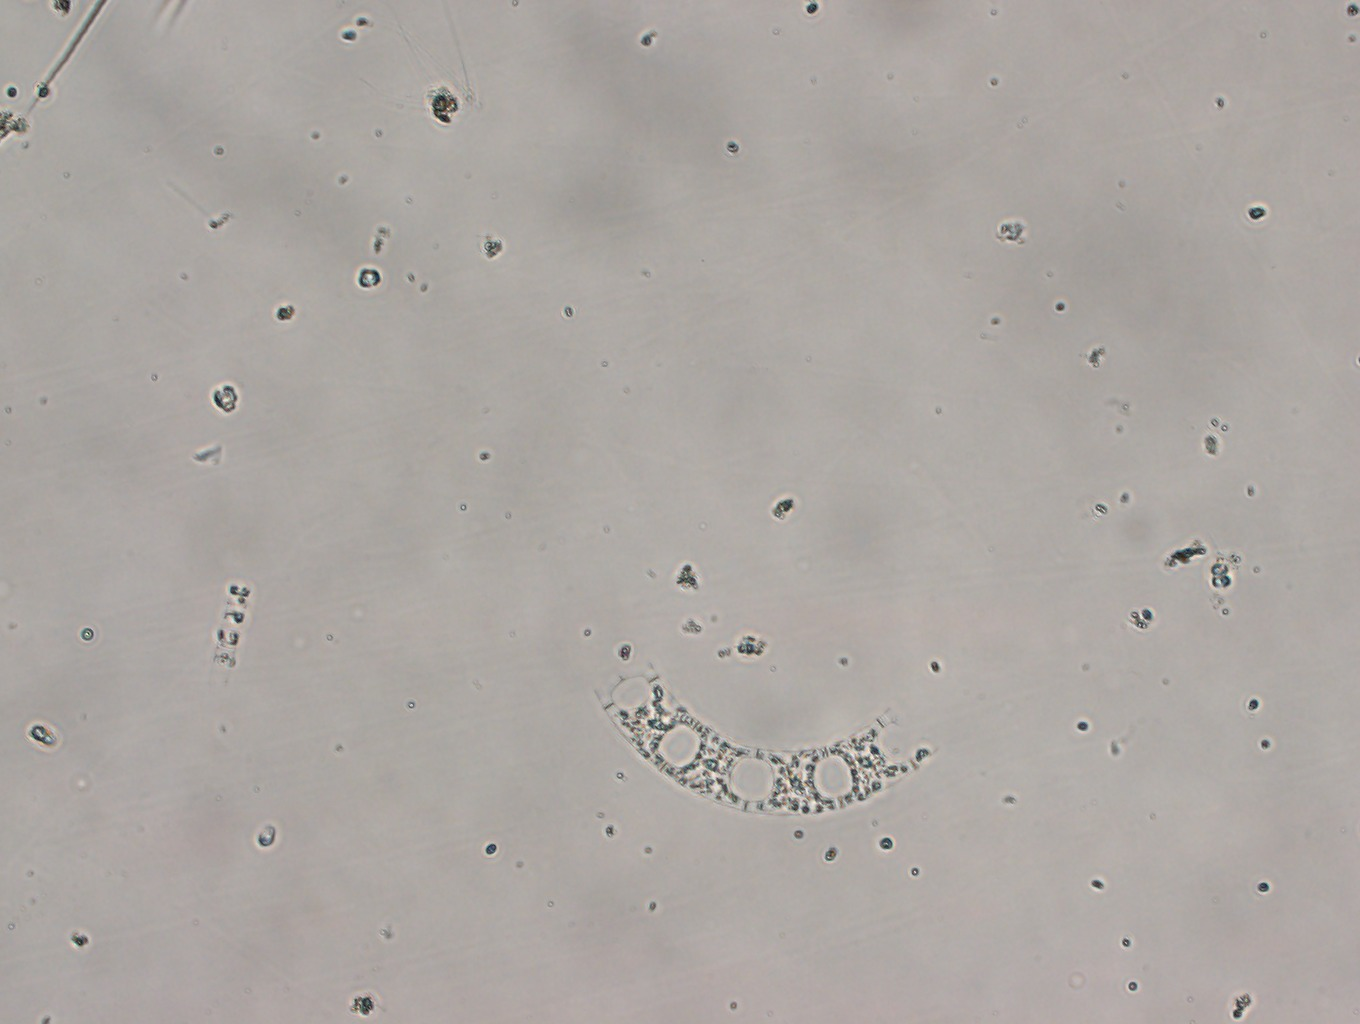eucampia: (595, 657, 933, 816)
